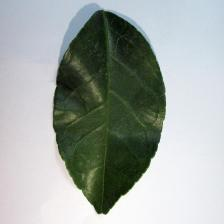healthy: (51, 9, 168, 215)
